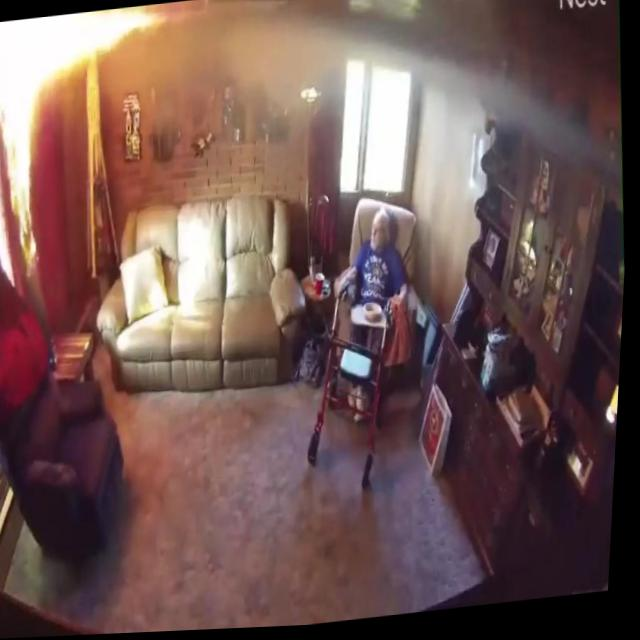fire: (0, 17, 58, 281), (0, 4, 175, 91)
